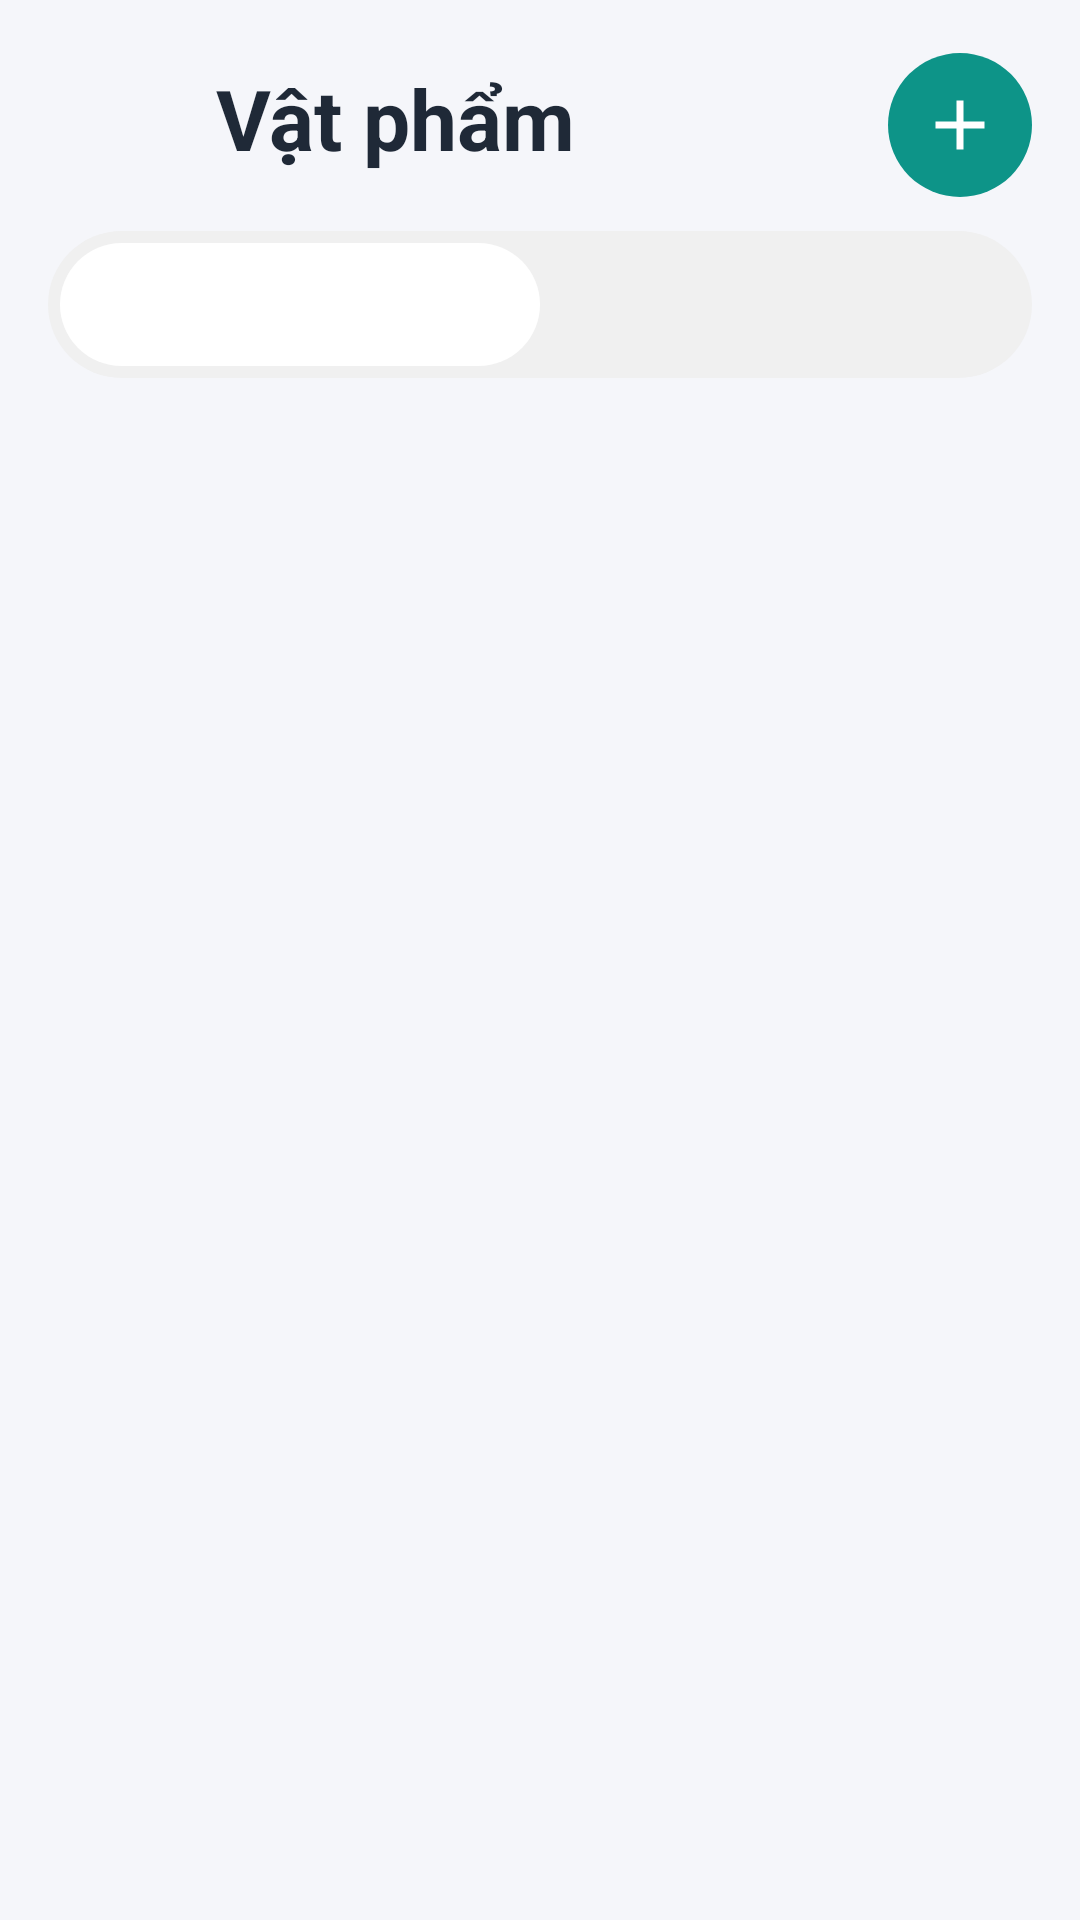

Icons on this 1080x1920 Android screen, each with its box as {"left": x1, "top": y1, "right": x2, "bottom": y2}:
items plus: {"left": 935, "top": 100, "right": 985, "bottom": 150}
